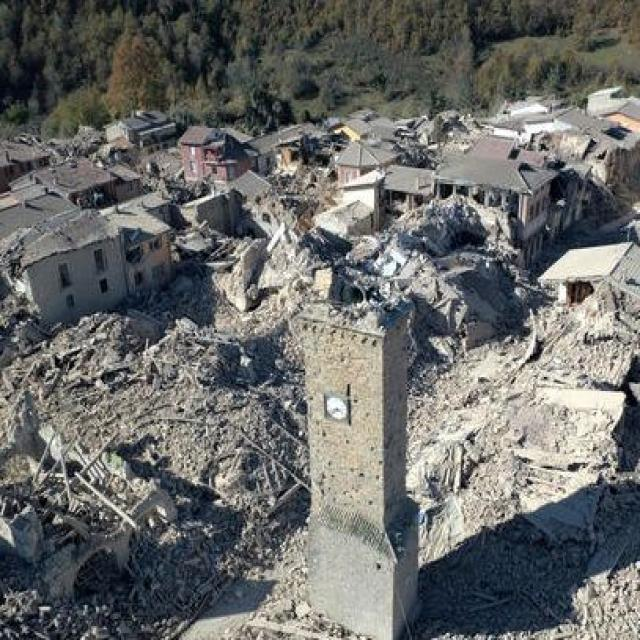collapsed_building: (357, 203, 535, 377), (536, 248, 638, 467), (0, 202, 118, 336), (266, 137, 330, 228)
